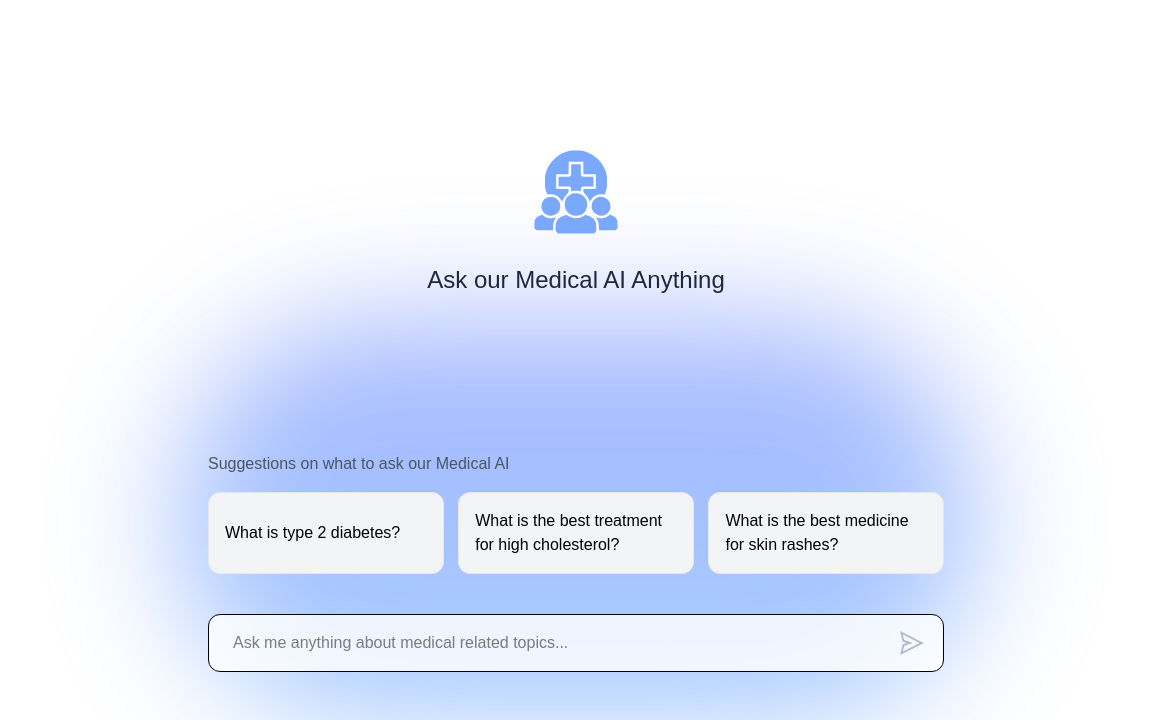
Scenario: ChatCard › sends a message when clicking a suggestion button
Note: Click the first suggestion button
Click the button "What is type 2 diabetes?". click: point(326, 533)
box: left=208, top=492, right=444, bottom=574
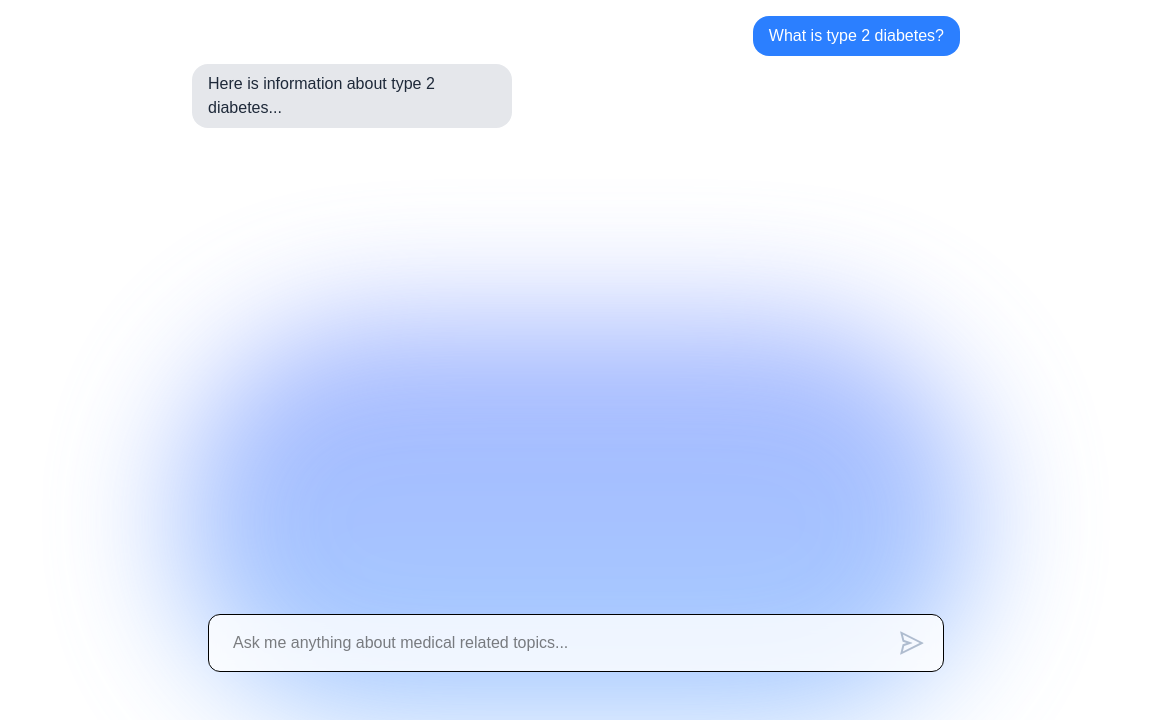
Check: the text "What is type 2 diabetes?" is shown, box left=753, top=16, right=960, bottom=56
Check: the text "Here is information about type 2 diabetes..." is shown, box left=192, top=64, right=512, bottom=128
